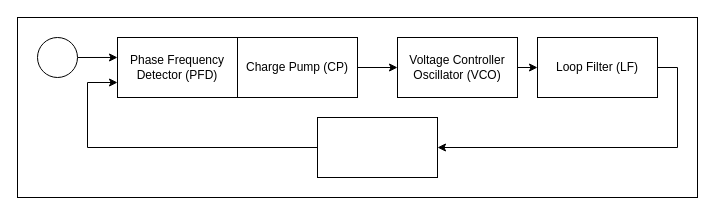
Image size: 715x215. Some labels were removed from this diagram. The shapes that lost their labels are listed below. From the top down, each one's centre as x and y in pixels, then its label:
the point at 57,57: REF
the point at 377,147: Frequency Divider (FD)
